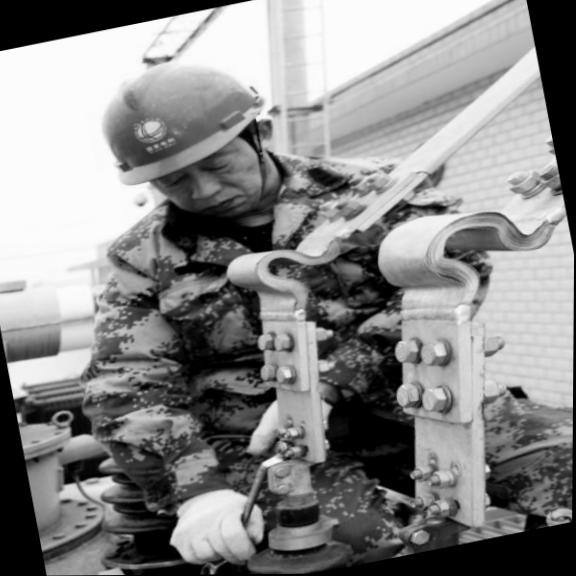no_safety_vest: (42, 142, 499, 500)
